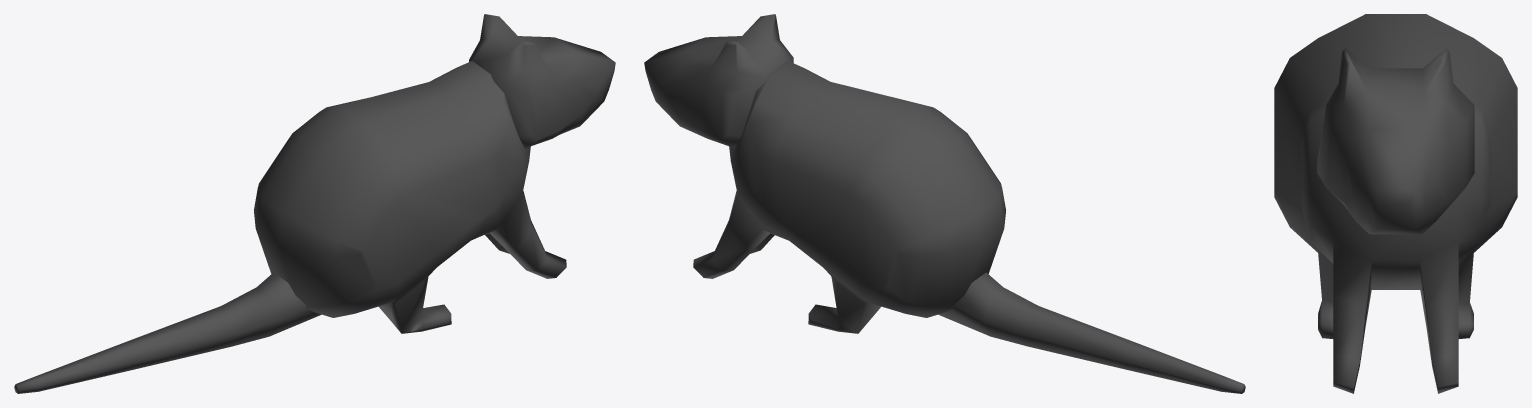
File: rat_legged.glb
3 views of the same model, side by side, from view 1: azimuth 30°, elevation 25°; view 2: azimuth 150°, elevation 25°; view 3: azimuth 270°, elevation 25° (orthographic). The views are drawn at different scales.
Visible parts, largest first — view 1: Cube, Cube.001, Cylinder; view 2: Cube, Cube.001, Cylinder; view 3: Cube, Cube.001.
Part boxes in pixels (left/top/right/bottom): Cube: left=254, top=61, right=566, bottom=333; Cube.001: left=469, top=14, right=615, bottom=148; Cylinder: left=14, top=272, right=321, bottom=393; Cube: left=693, top=61, right=1005, bottom=333; Cube.001: left=644, top=14, right=793, bottom=148; Cylinder: left=938, top=272, right=1245, bottom=393; Cube: left=1274, top=14, right=1517, bottom=393; Cube.001: left=1317, top=48, right=1474, bottom=234.
Bounding box in the file's own units: 11.08 × 4.58 × 2.96.
Materials: 1 (1 with a texture image).
